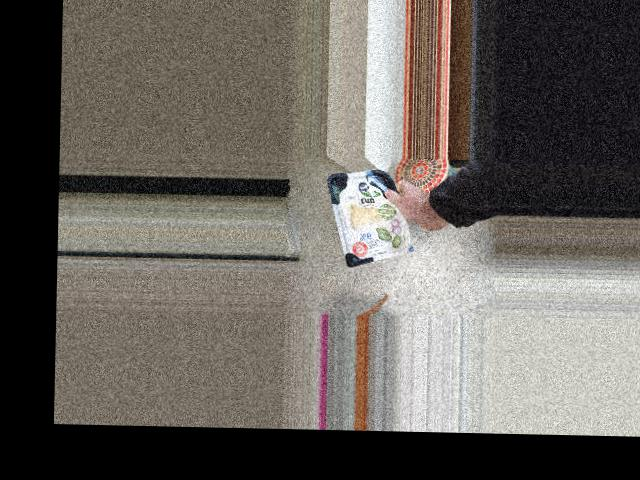cheese: (325, 167, 415, 263)
